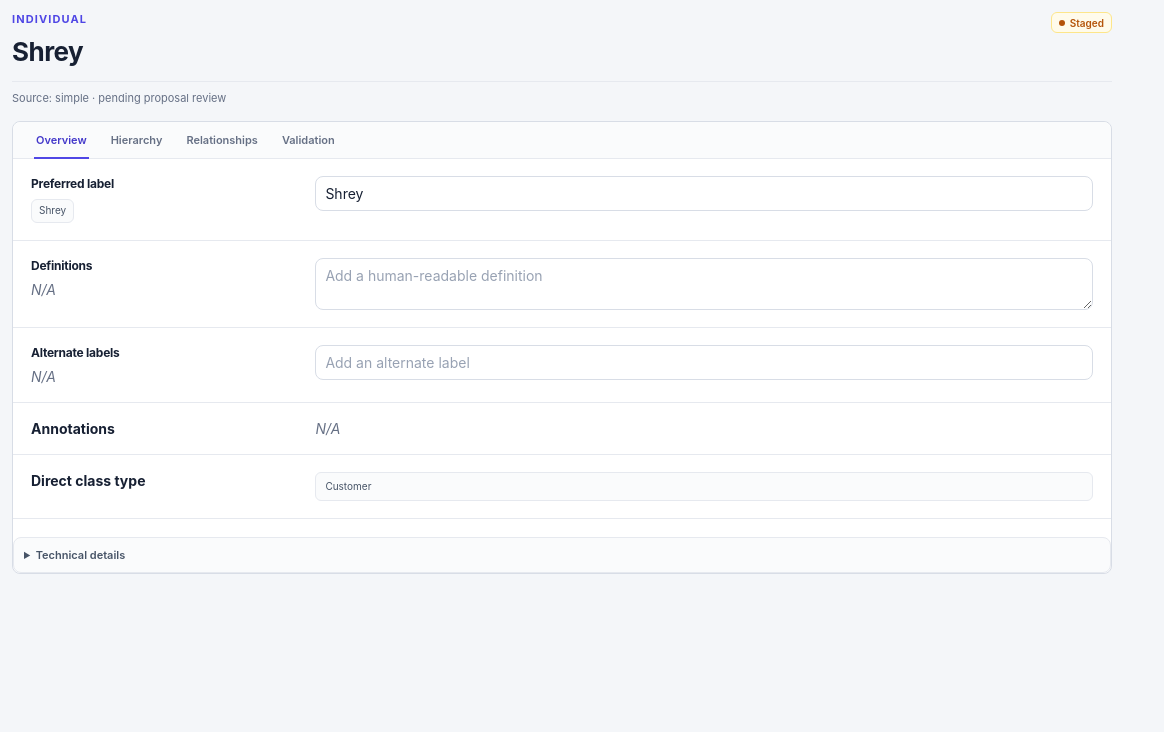
Test case: entity details editing › does not expose a schema tab for objects and limits relationship targets to individuals
This screenshot has width=1164, height=732.
Click the tab "Relationships": (222, 140) [175,122,269,158]
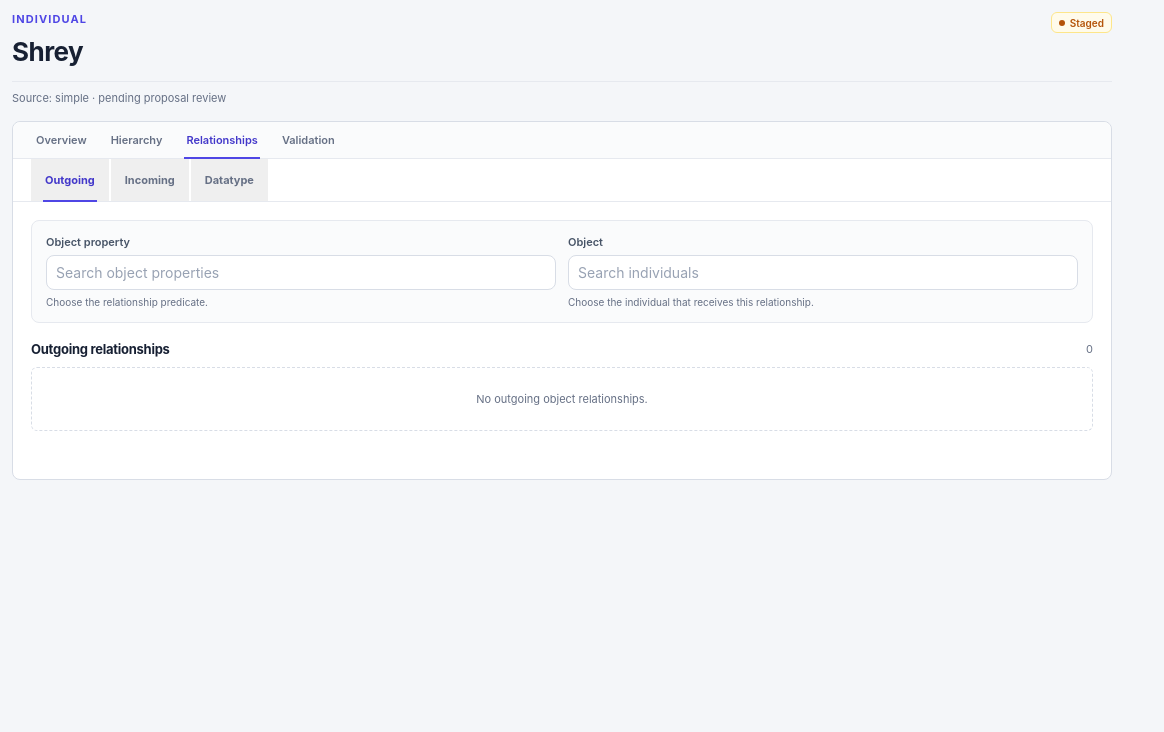
Now the heading "Outgoing relationships" is shown, box [31,341,170,357]
In the dropdown labelled "Object": (823, 273) [568,255,1078,290], type "Invoice"
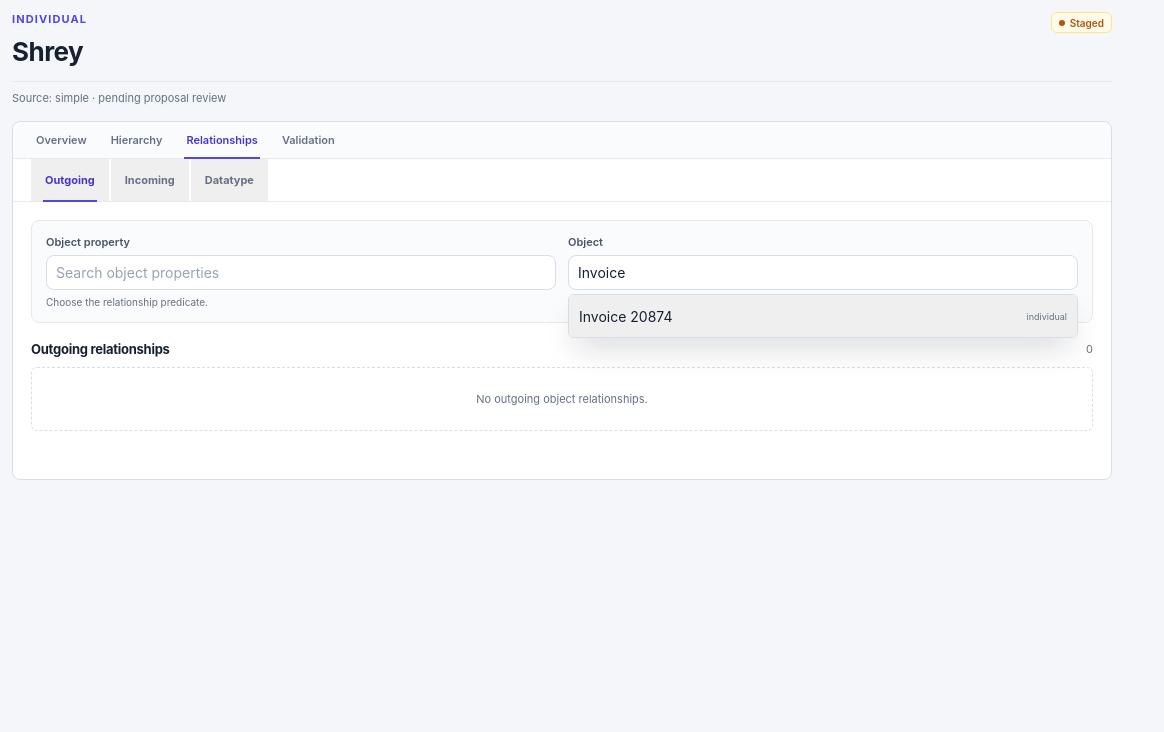
Click the option "Invoice 20874 individual": (626, 316) [569,295,1077,337]
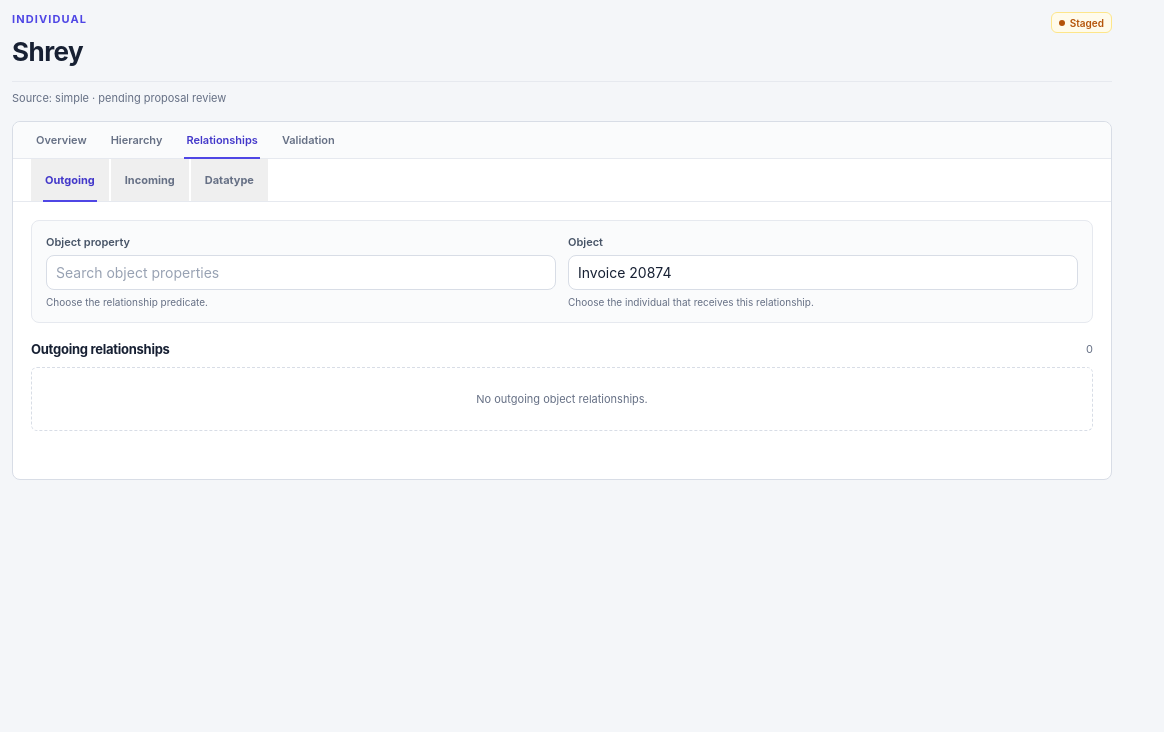
Now the dropdown labelled "Object" holds "Invoice 20874"
Replace the text in the dropdown labelled "Object" with "Invoice": (823, 273) [568,255,1078,290]
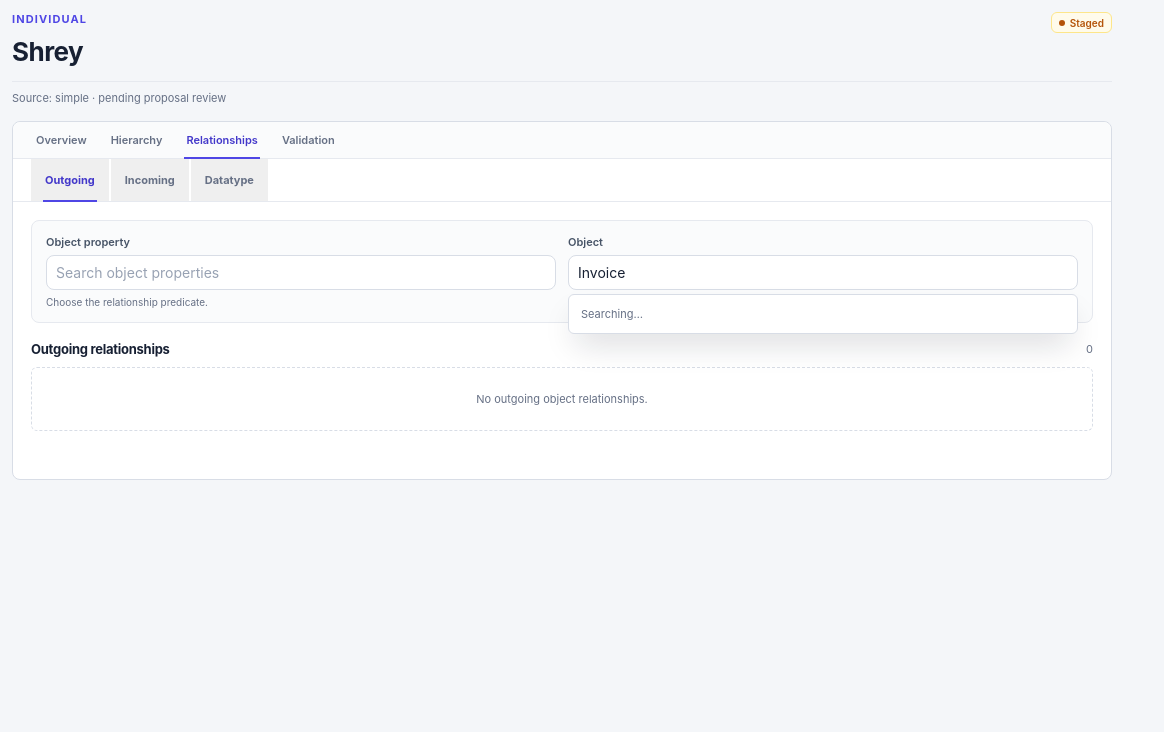
Expected: the option "Invoice 20874" is not shown
Expected: the list does not show "received invoice", [568,294,1078,334]
Click the tab "Incoming": (150, 180) [111,159,189,201]
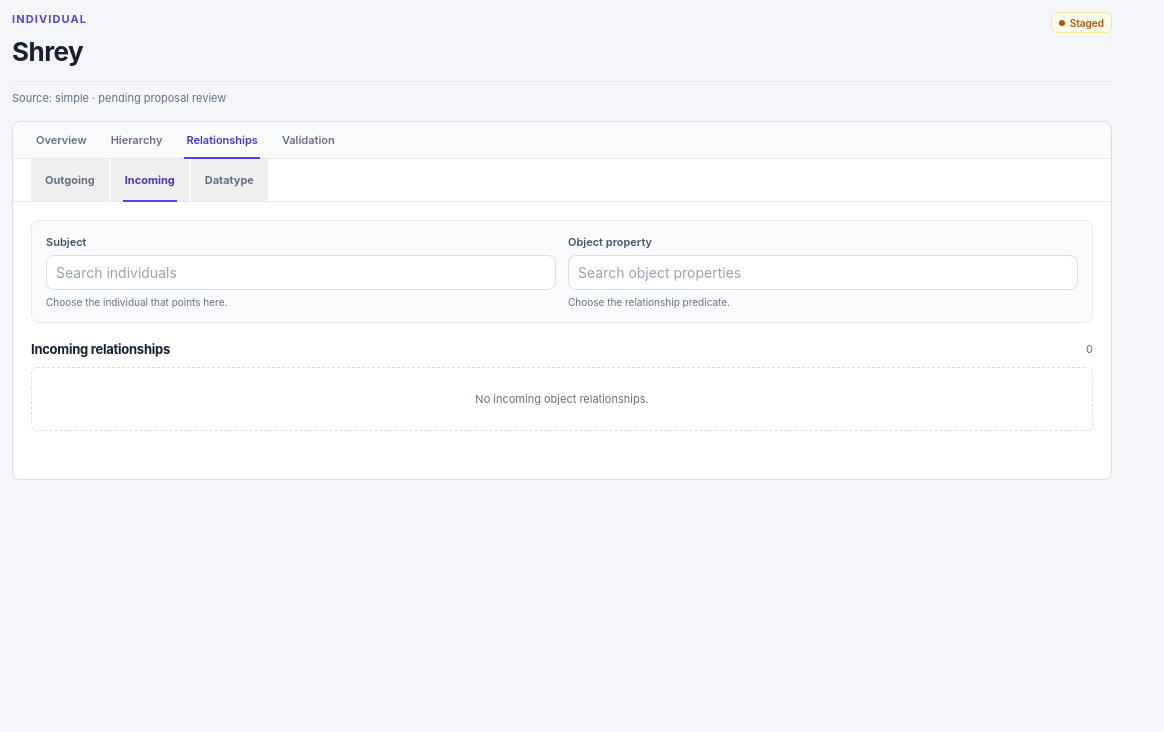
Now the heading "Incoming relationships" is shown, box [31,341,170,357]
Click the tab "Datatype": (229, 180) [191,159,268,201]
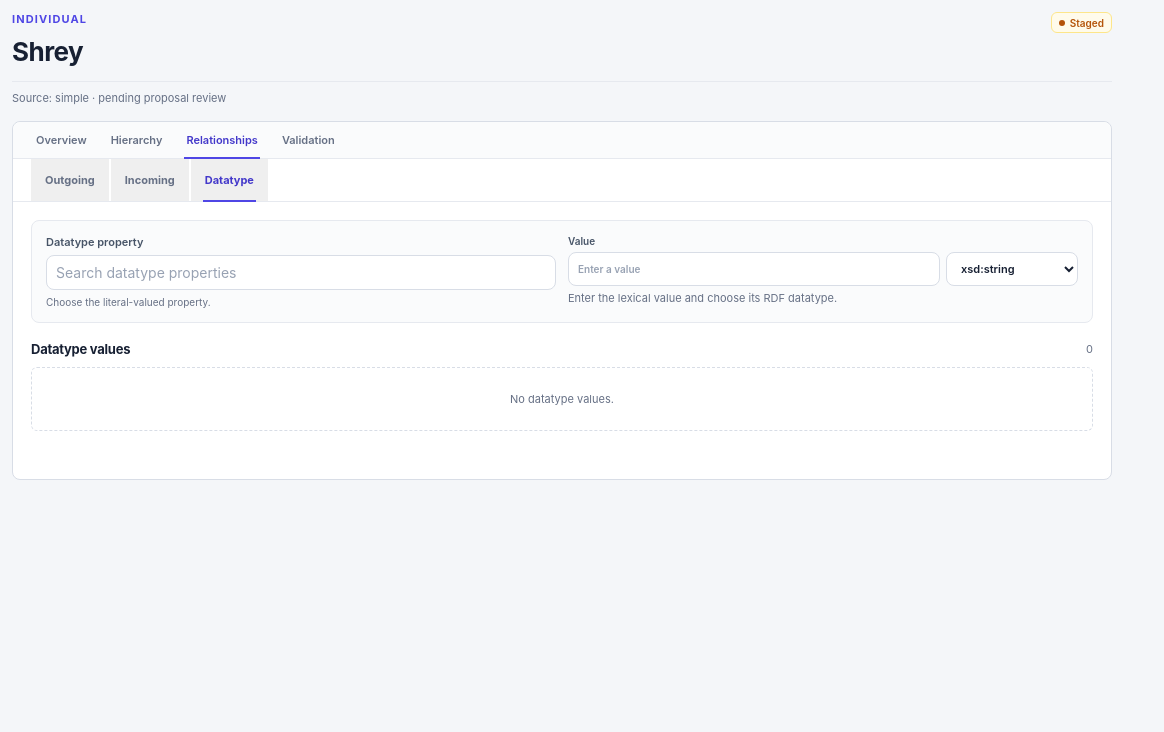
Now the heading "Datatype values" is shown, box [31,341,130,357]
Now the field labelled "Value Enter the lexical value and choose its RDF datatype." is shown, box [568,252,940,286]
